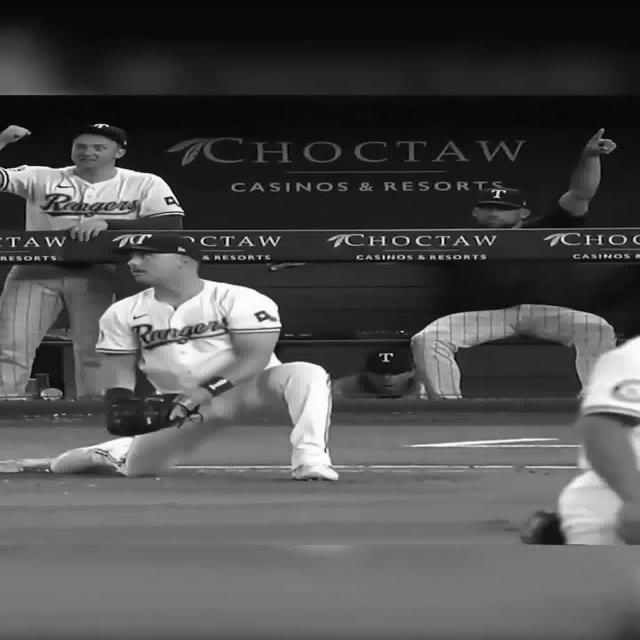base: (7, 460, 126, 477)
baseball_glove: (104, 391, 200, 437)
shoe: (54, 440, 138, 470), (520, 510, 565, 544), (289, 463, 339, 481)
